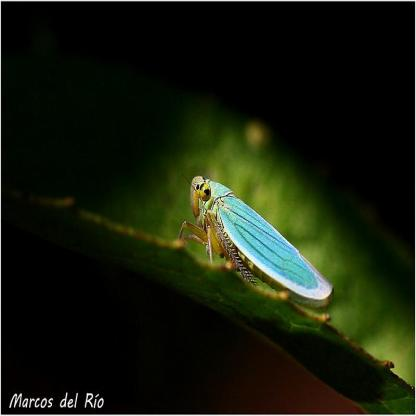Green-Leafhopper: (174, 166, 335, 307)
